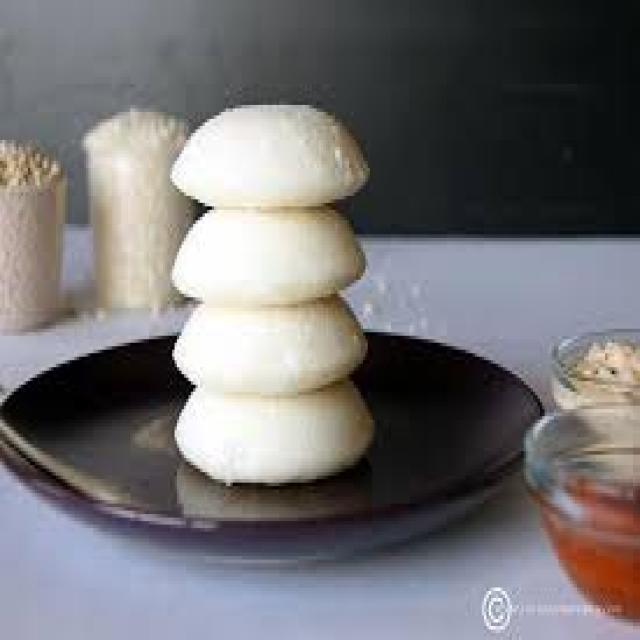IDLI: (175, 378, 372, 483), (172, 105, 368, 206), (172, 297, 365, 392), (172, 206, 363, 301)
